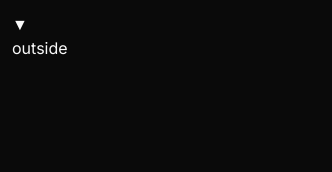
DropdownMenu › invokes the item handler and closes
The image size is (332, 172).
Click the button named "Open menu" at (20, 24), box [12,12,28,36]
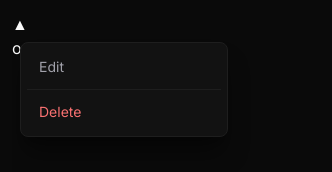
Click the menu item "Edit" at (124, 67), box [27,49,221,85]
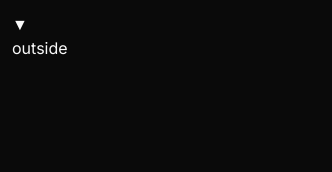
expect the menu item "Edit" is gone: met
